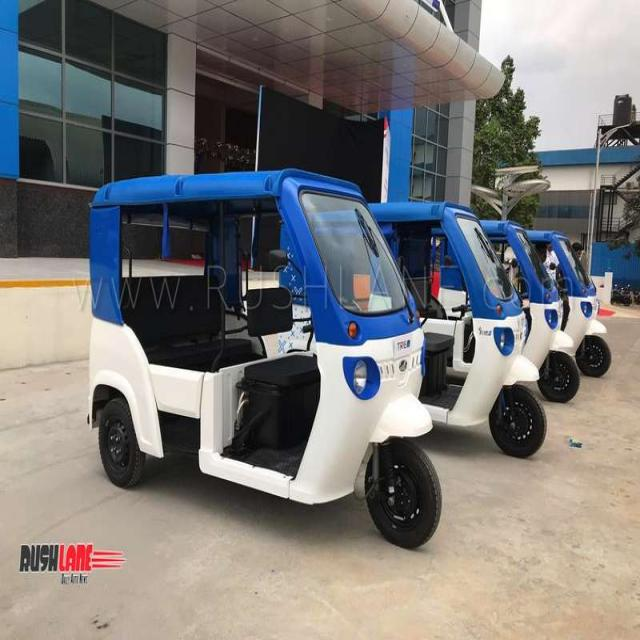autorickshaw: (89, 170, 441, 547), (372, 203, 546, 457), (482, 220, 580, 402), (529, 230, 611, 377)
